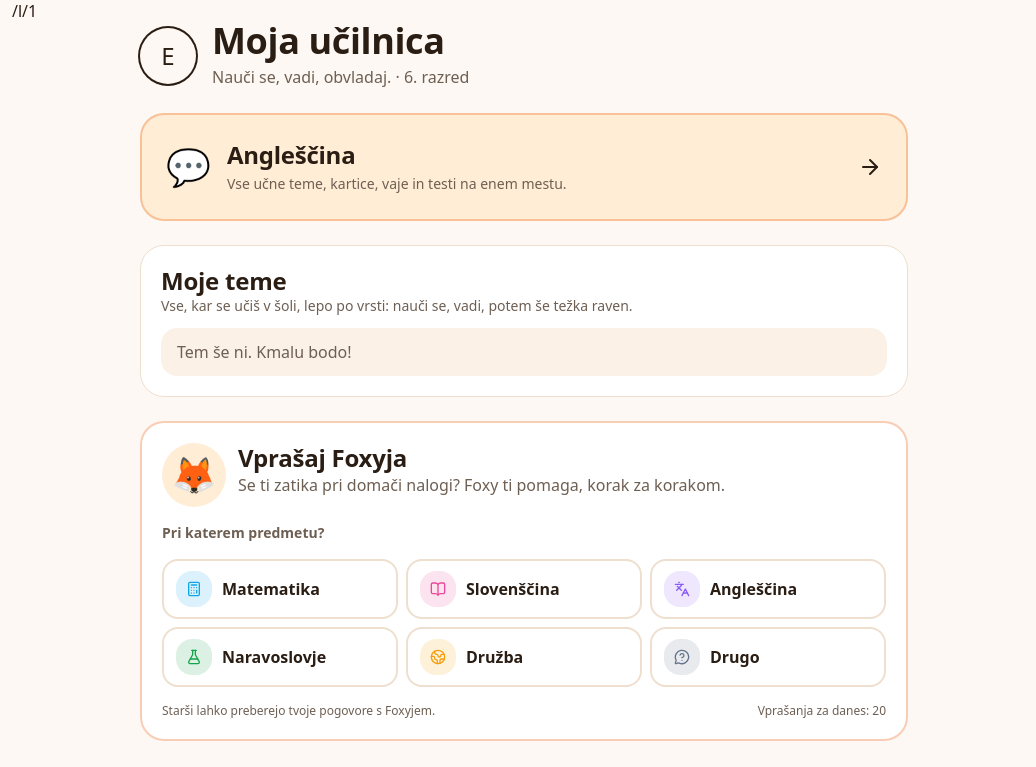
Scenario: English collection › includes standalone future English tests even without an English lesson
Step 1. Click the link "Angleščina" → (188, 166), box [140, 113, 908, 221]
(page scrolled)
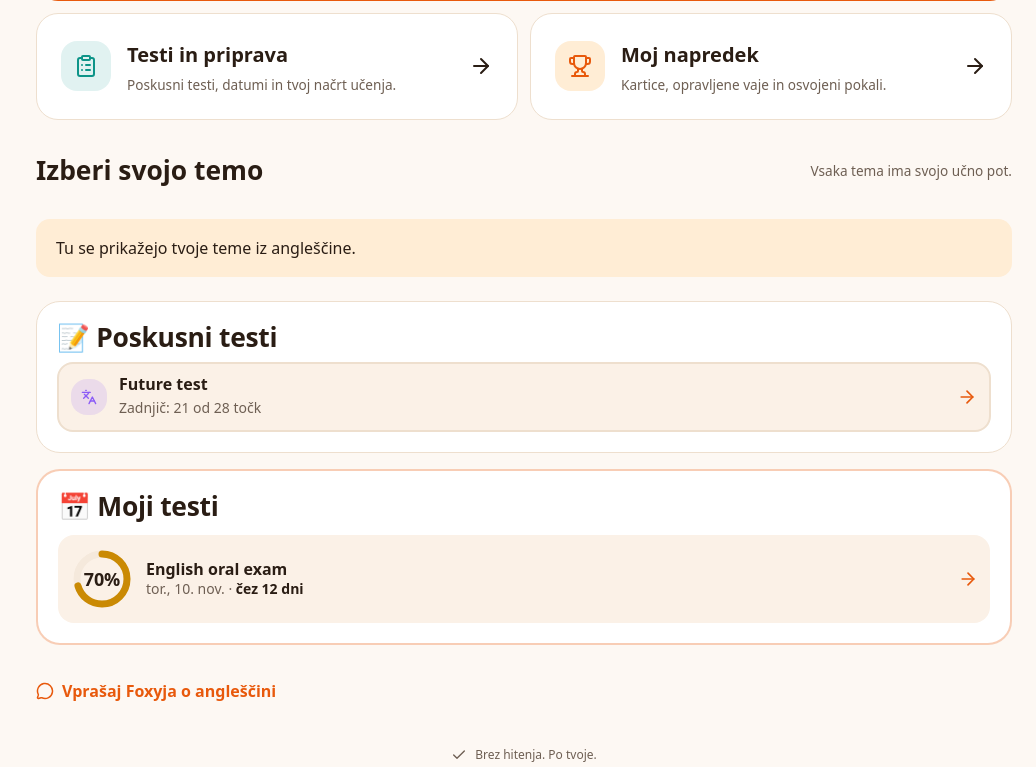
Check: the text "Future test" is shown, box [119, 373, 208, 395]
